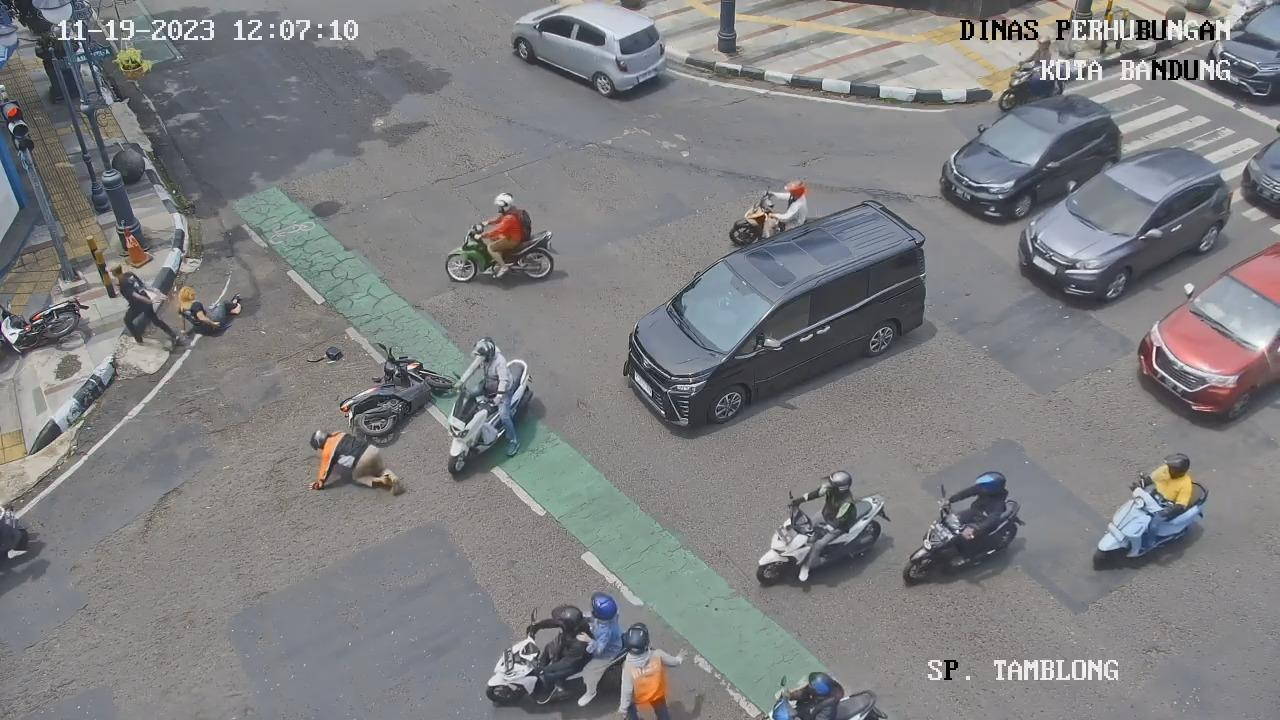accident: (295, 407, 405, 501), (170, 277, 253, 349)
